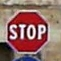stop: (4, 8, 51, 55)
